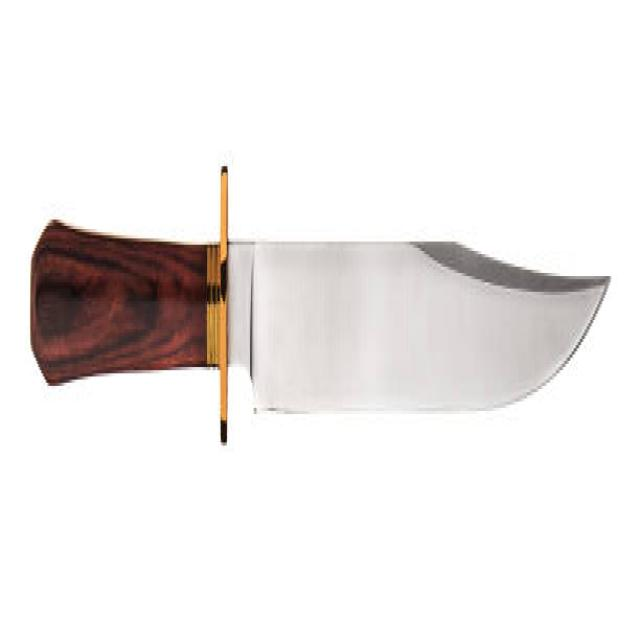knife: (28, 162, 616, 457)
